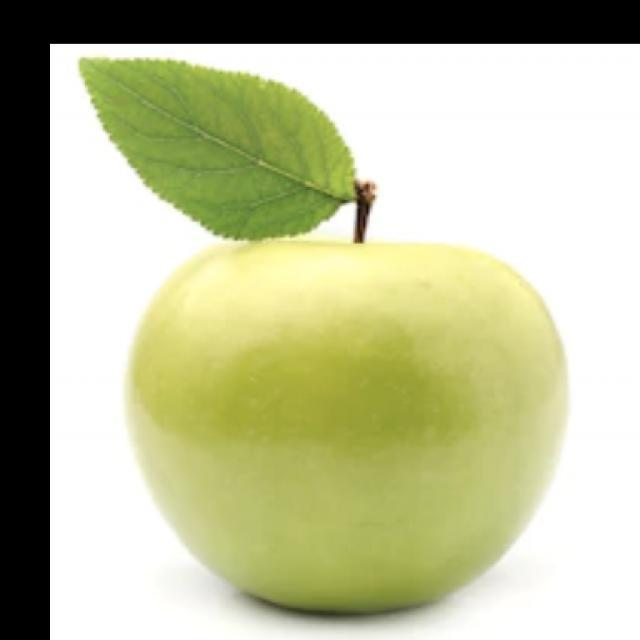Fresh Apple: (121, 230, 572, 620)
